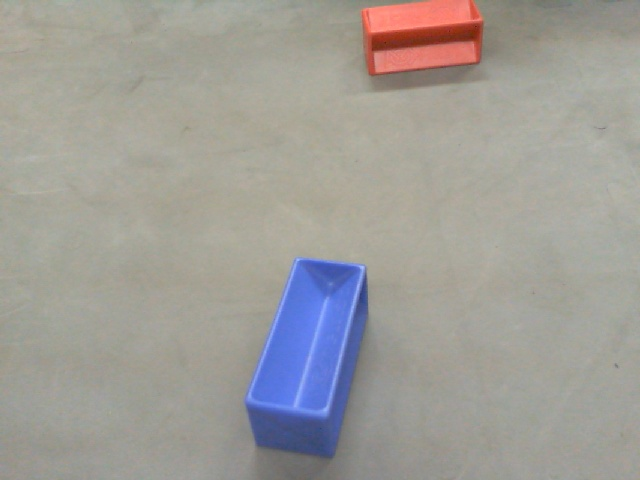BlueSample: (242, 257, 374, 452)
RedSample: (362, 1, 486, 75)
